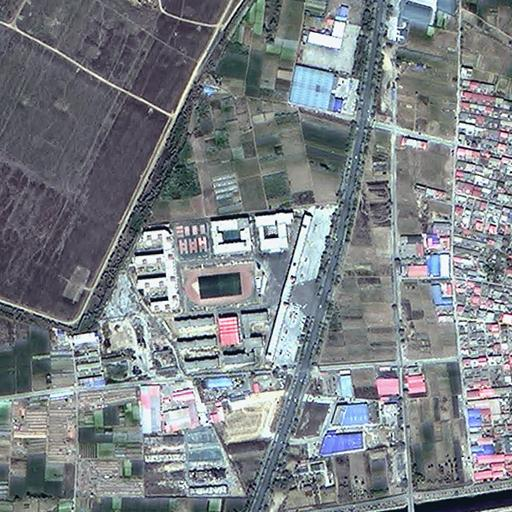school: (132, 207, 299, 368)
